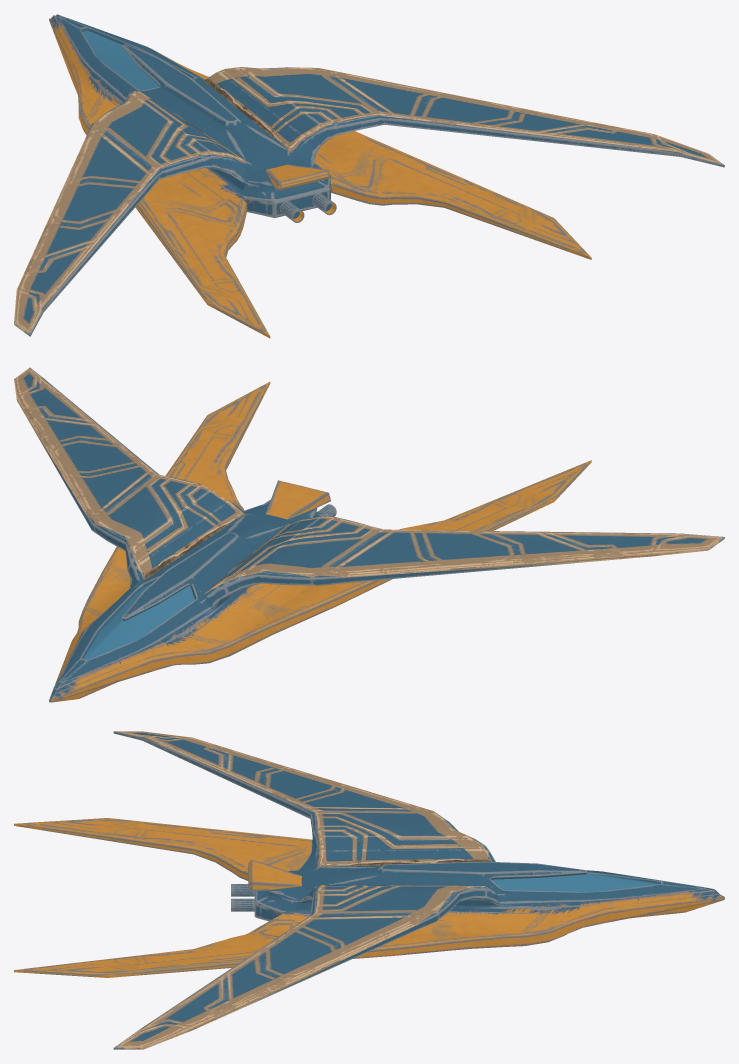
The model's file is spaceship.glb.
3 renders of one model, top to bottom at view 1: azimuth 30°, elevation 25°; view 2: azimuth 150°, elevation 25°; view 3: azimuth 270°, elevation 25°, orthographic. The views are drawn at different scales.
Visible parts, largest first — view 1: defaultMaterial; view 2: defaultMaterial; view 3: defaultMaterial.
Part boxes in pixels (x1,y1,x2,y2): defaultMaterial: [14, 14, 724, 338]; defaultMaterial: [14, 367, 724, 702]; defaultMaterial: [14, 731, 724, 1049].
Bounding box in the file's own units: 2 × 0.1546 × 1.9.
1 material, 1 textured.
